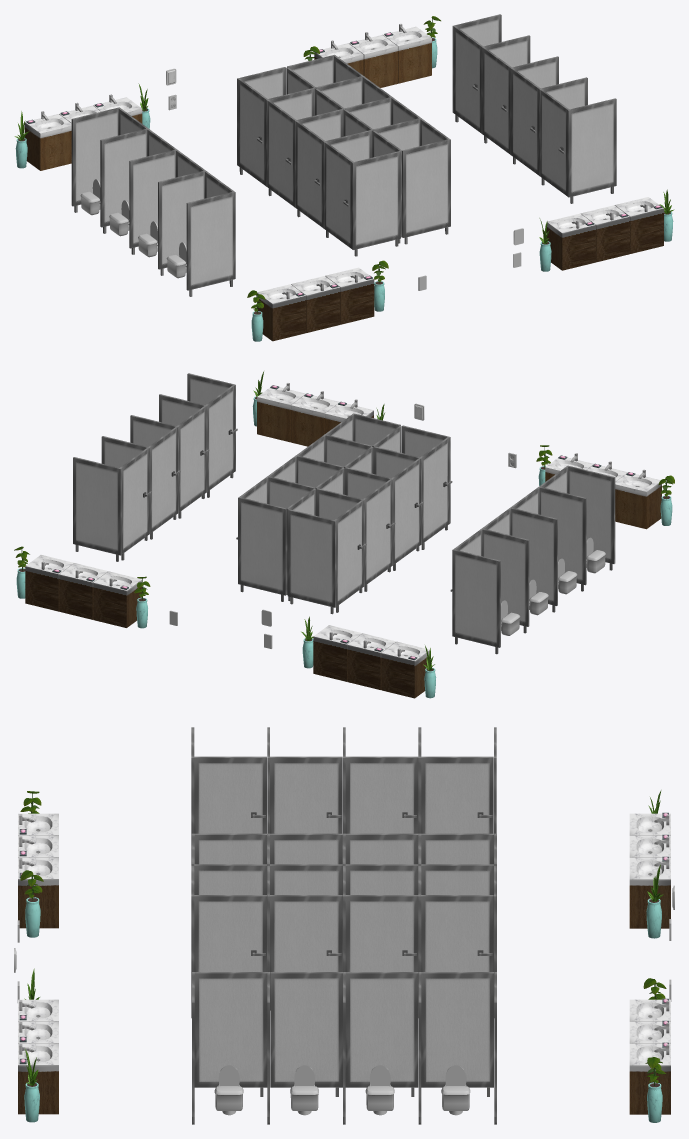
The model's file is Room02Set1.FBX.
3 renders of one model, top to bottom at view 1: azimuth 30°, elevation 25°; view 2: azimuth 150°, elevation 25°; view 3: azimuth 270°, elevation 25°, orthographic. The views are drawn at different scales.
Parts seen in each view (by area): view 1: TolietWall005, TolietWall008, TolietWall032, TolietWall015, TolietWall012, TolietWall011, TolietWall010, TolietWall009, TolietDoor002, TolietDoor004, TolietDoor001, TolietDoor020 (+32 smaller); view 2: TolietWall028, TolietWall012, TolietWall001, TolietWall019, TolietWall008, TolietWall011, TolietWall009, TolietWall010, TolietDoor001, TolietDoor003, TolietDoor022, TolietDoor020 (+30 smaller); view 3: TolietDoor004, TolietDoor002, TolietDoor003, TolietDoor001, TolietDoor009, TolietDoor015, TolietDoor007, TolietDoor008, TolietDoor010, TolietDoor014, TolietDoor013, TolietDoor016 (+25 smaller).
Part boxes in pixels (x1,y1,x2,y2): TolietWall005: (567,98,616,203); TolietWall008: (186,191,235,296); TolietWall032: (352,151,400,256); TolietWall015: (402,139,450,244); TolietWall012: (71,107,119,212); TolietWall011: (100,128,148,233); TolietWall010: (129,149,177,254); TolietWall009: (158,170,206,275); TolietDoor002: (482,47,511,154); TolietDoor004: (540,89,569,196); TolietDoor001: (454,26,482,132); TolietDoor020: (267,100,296,206); TolietWall028: (287,509,336,614); TolietWall012: (452,549,500,654); TolietWall001: (73,457,121,561); TolietWall019: (238,497,286,601); TolietWall008: (567,465,615,570); TolietWall011: (481,528,529,633); TolietWall009: (538,486,586,591); TolietWall010: (509,507,557,612); TolietDoor001: (120,448,151,560); TolietDoor003: (177,406,209,518); TolietDoor022: (420,437,452,549); TolietDoor020: (363,479,395,591); TolietDoor004: (194,972,267,1096); TolietDoor002: (345,972,418,1096); TolietDoor003: (270,972,342,1096); TolietDoor001: (421,972,493,1096); TolietDoor009: (345,756,418,833); TolietDoor015: (345,895,418,971); TolietDoor007: (194,756,266,833); TolietDoor008: (270,756,342,833); TolietDoor010: (421,756,493,833); TolietDoor014: (270,895,342,1010); TolietDoor013: (194,895,266,971); TolietDoor016: (421,895,493,971).
Bounding box in the file's own units: 119 × 24.74 × 120.
